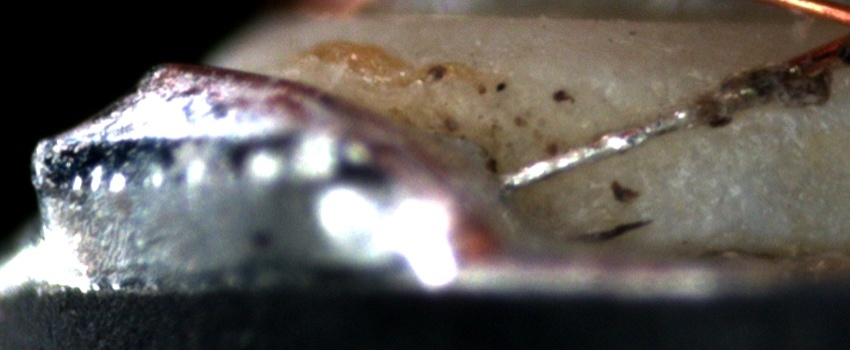DL: (632, 84, 850, 128)
